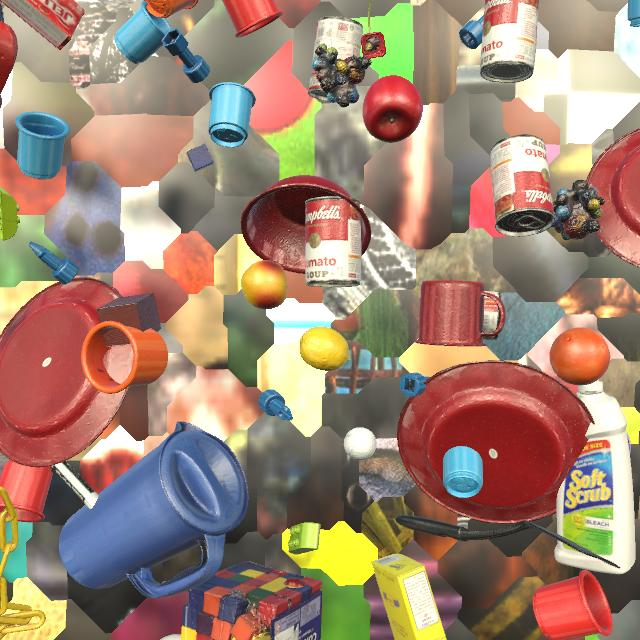ycb_004_sugar_box: (371, 553, 447, 640)
ycb_005_tomato_soup_can: (490, 134, 555, 237), (305, 196, 361, 287), (480, 0, 539, 83), (308, 16, 363, 101), (483, 291, 501, 340)
ycb_009_gelatin_box: (0, 0, 85, 50)
ycb_013_apple: (363, 75, 423, 143)
ycb_014_lemon: (299, 327, 350, 371)
ycb_015_peach: (241, 260, 287, 310)
ycb_017_orange: (549, 327, 610, 385)
